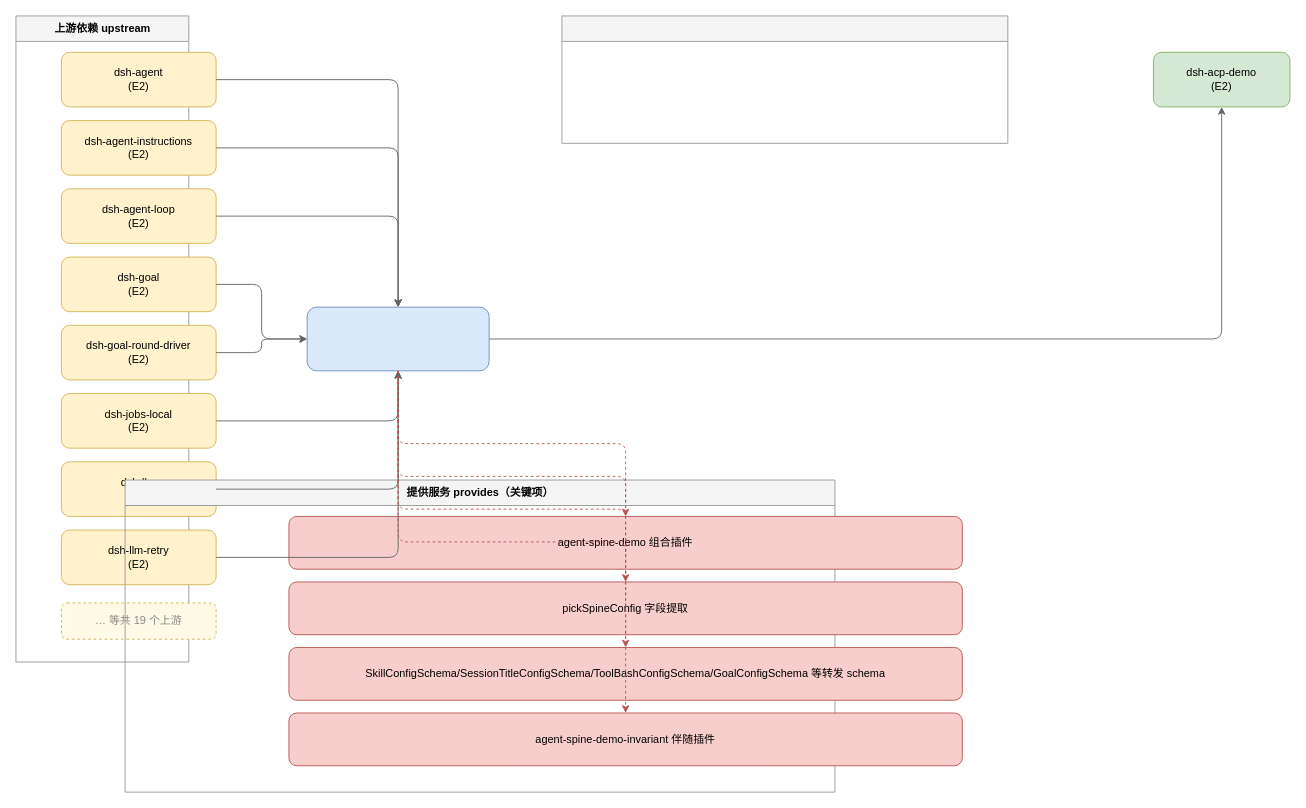
This 1306x808 diagram has some shape labels left out. Here are the shapes that lost their labels. From the top down, the centre of each, then its label:
the point at 784,79: 下游被依赖 dependents
the point at 397,338: @deepseek-ai/dsh-agent-spine-demo
